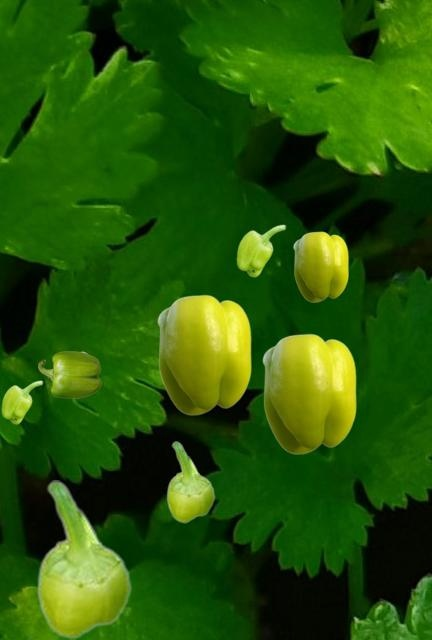bell_pepper: (36, 480, 131, 638), (157, 294, 250, 414), (262, 333, 355, 453), (166, 441, 214, 522), (293, 231, 347, 301), (38, 351, 100, 397), (236, 224, 285, 276), (1, 380, 42, 423)
